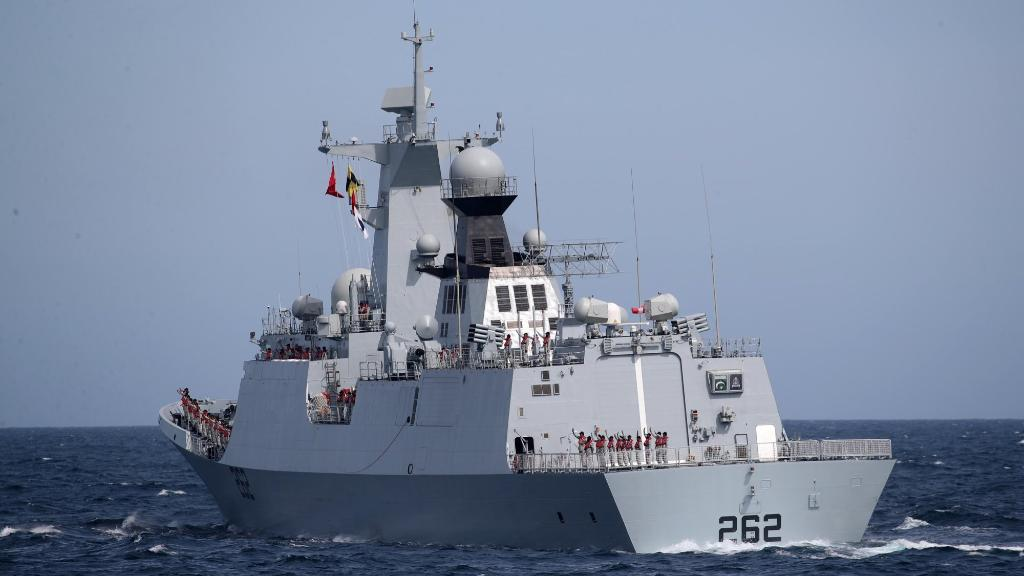Warship: (154, 0, 904, 556)
